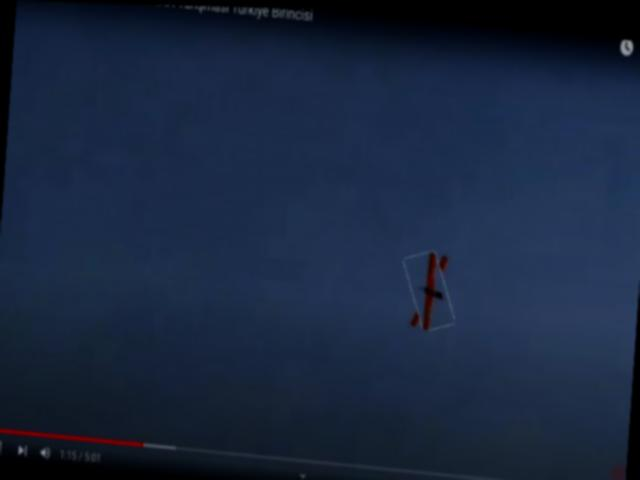insansiz-hava-araci: (404, 246, 454, 329)
